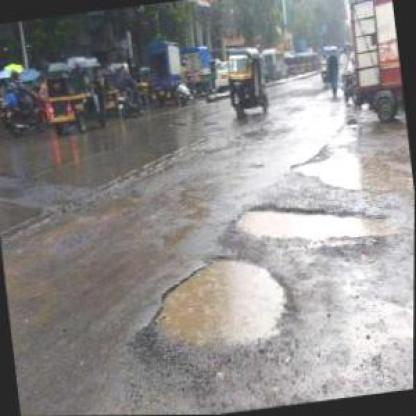pothole: (141, 242, 300, 358), (232, 187, 391, 257), (287, 143, 413, 209)
